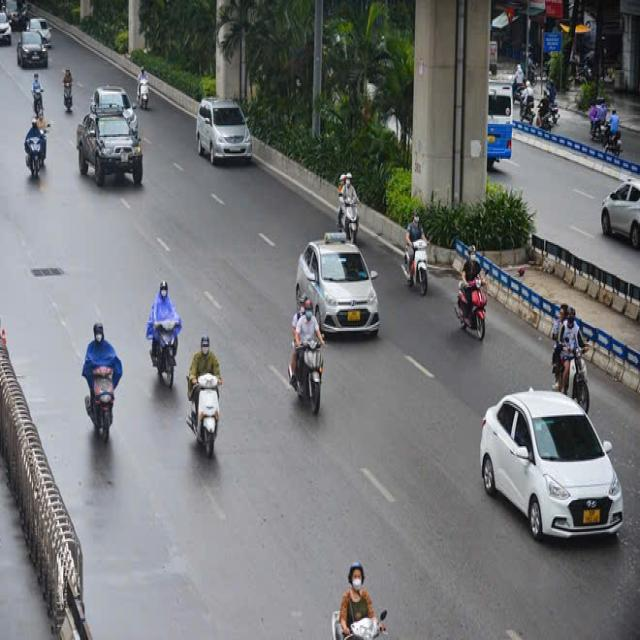car: (486, 378, 626, 545), (289, 238, 383, 332), (77, 110, 141, 178), (196, 93, 252, 167), (94, 76, 132, 115), (18, 26, 46, 66), (28, 8, 52, 44)
motobyte: (328, 561, 389, 640), (554, 304, 597, 404), (190, 337, 220, 452), (86, 325, 116, 436), (295, 298, 326, 402), (458, 248, 490, 333), (154, 275, 180, 379), (331, 168, 358, 244), (408, 216, 430, 292), (24, 117, 43, 184), (130, 65, 152, 105), (31, 77, 44, 118), (62, 68, 72, 111)
